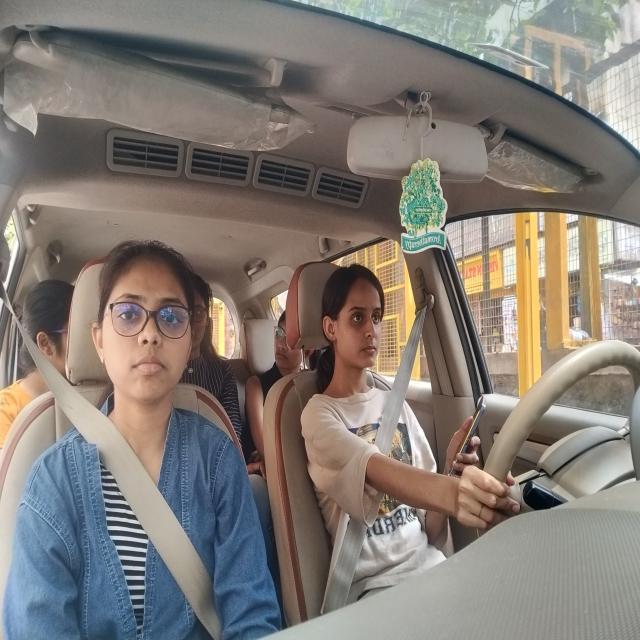mobile: (452, 394, 490, 479)
person: (98, 253, 194, 413), (321, 276, 394, 378), (25, 281, 74, 379), (272, 312, 305, 372), (194, 282, 210, 356)
